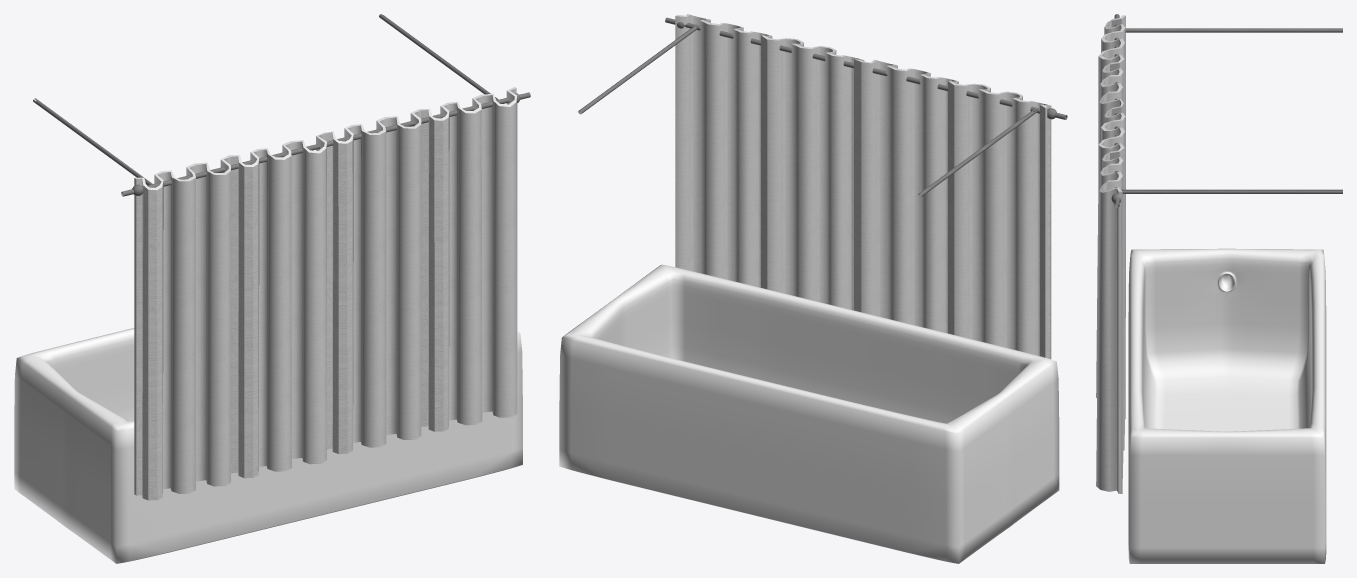
File: Bathtub.FBX
3 renders of one model, left to right at view 1: azimuth 30°, elevation 25°; view 2: azimuth 150°, elevation 25°; view 3: azimuth 270°, elevation 25°, orthographic. The views are drawn at different scales.
Parts seen in each view (by area): view 1: Bathtub; view 2: Bathtub; view 3: Bathtub.
Boxes of the visible parts, x1,y1,x2,y2 form: Bathtub: (14, 14, 530, 563); Bathtub: (559, 14, 1067, 563); Bathtub: (1096, 14, 1342, 563).
Size of the model in its own units: 223 by 201 by 122.
3 materials, 2 textured.
